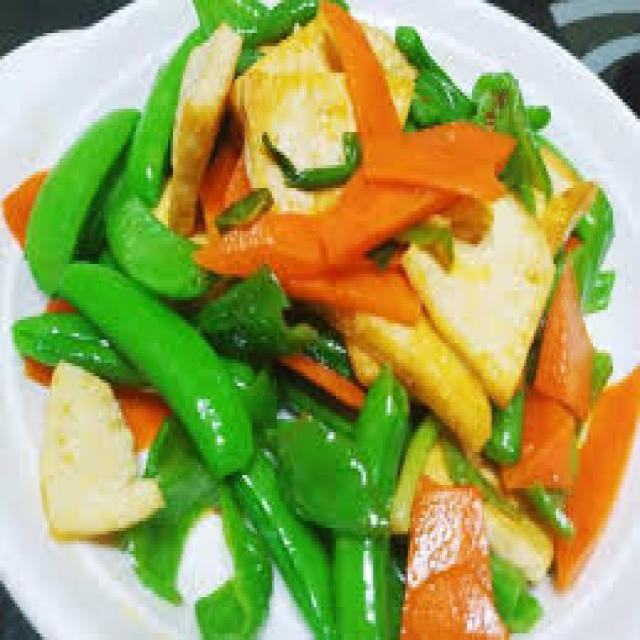food_waste: (2, 0, 638, 637)
